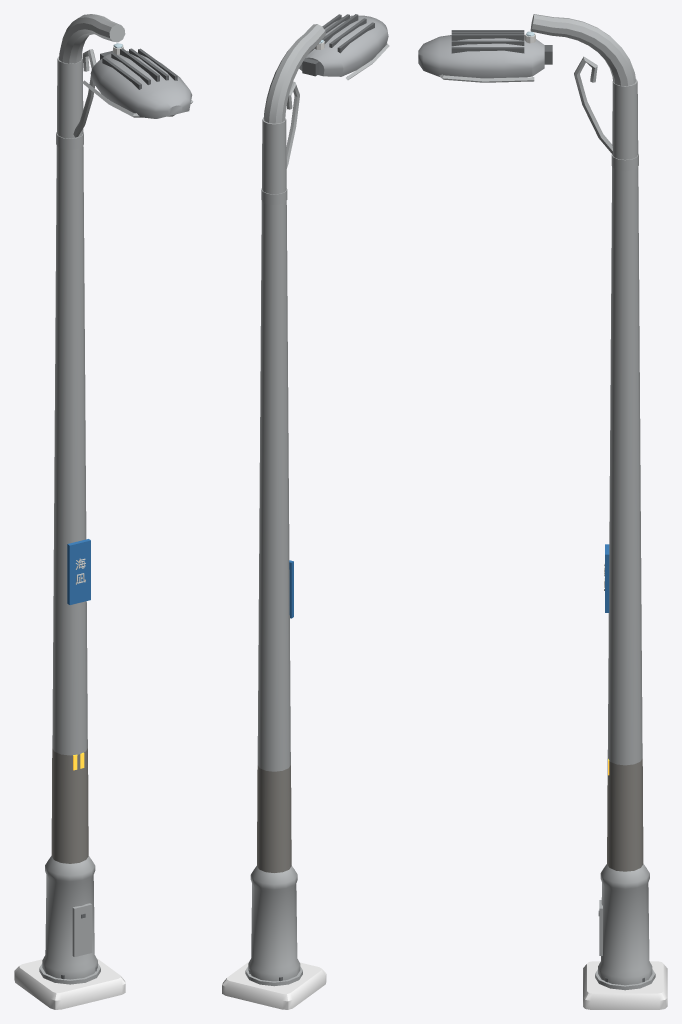
Rendered from street_light.glb.
3 renders of one model, left to right at view 1: azimuth 30°, elevation 25°; view 2: azimuth 150°, elevation 25°; view 3: azimuth 270°, elevation 25°, orthographic. The views are drawn at different scales.
Parts seen in each view (by area): view 1: street_light_body; view 2: street_light_body; view 3: street_light_body.
Part boxes in pixels (bbox=[...]): street_light_body: bbox=[14, 14, 193, 1009]; street_light_body: bbox=[222, 14, 389, 1009]; street_light_body: bbox=[418, 14, 667, 1009].
Size of what is drawn, in the model's own units: 0.42 by 5.34 by 1.23.
